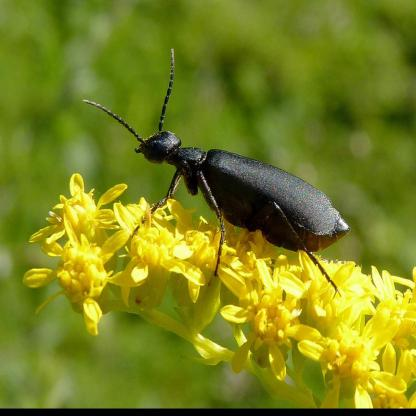beetle: (106, 82, 344, 280)
